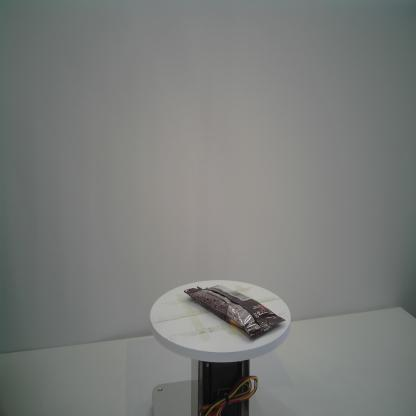Chocolate: (183, 285, 286, 337)
